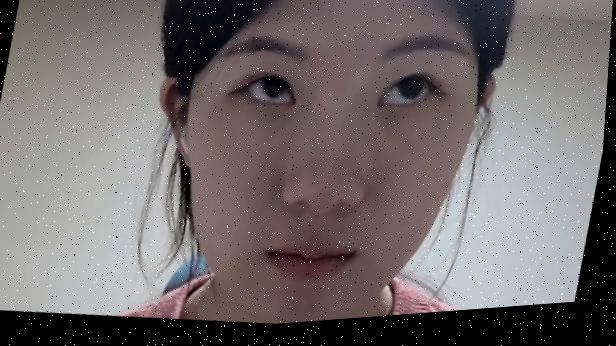eye: (259, 72, 294, 105), (395, 75, 429, 108)
iris: (377, 75, 438, 119), (241, 73, 304, 114)
